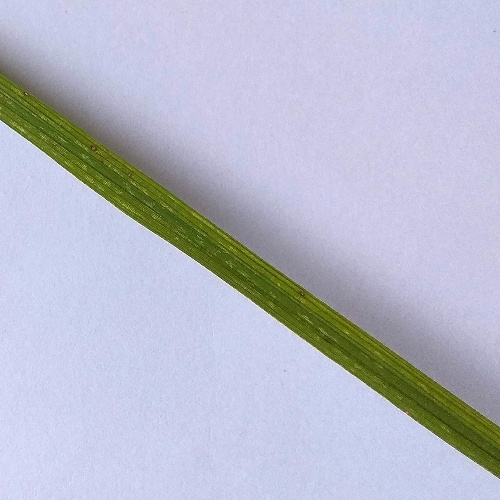Busuk Leher: (294, 285, 308, 302), (87, 143, 102, 153)
